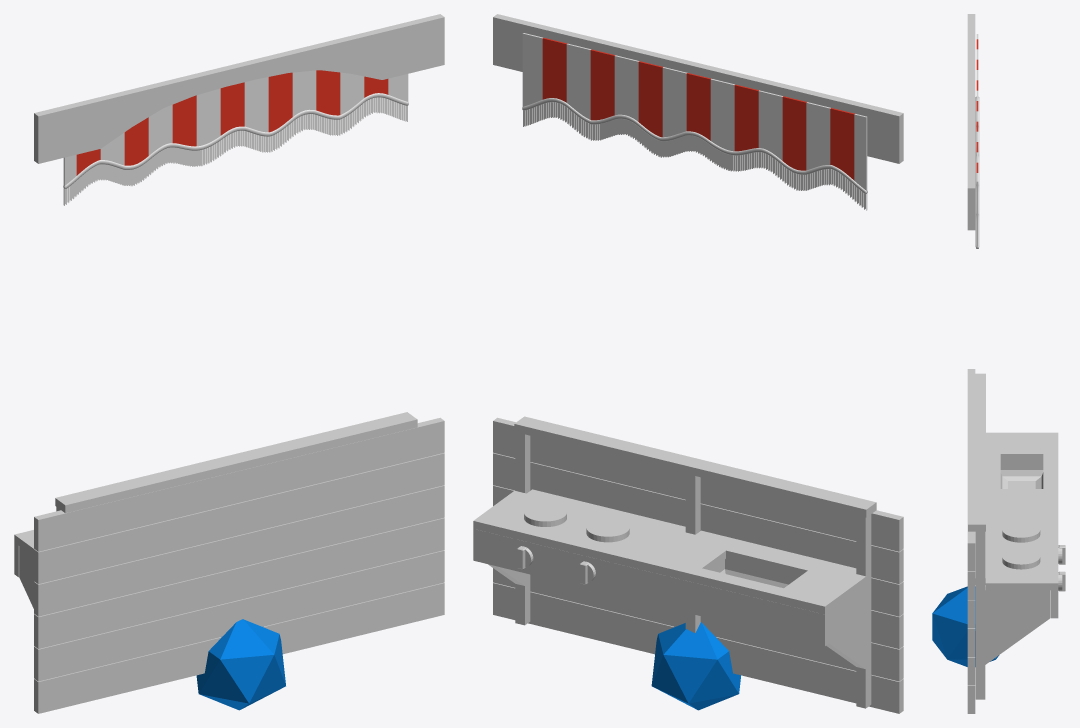
File: Kitchen.glb
3 views of the same model, side by side, from view 1: azimuth 30°, elevation 25°; view 2: azimuth 150°, elevation 25°; view 3: azimuth 270°, elevation 25° (orthographic). The views are drawn at different scales.
Parts seen in each view (by area): view 1: Cube.124, Joint.030; view 2: Cube.124, Joint.030; view 3: Cube.124, Joint.030.
Boxes of the visible parts, x1,y1,x2,y2 form: Cube.124: (14, 14, 444, 713); Joint.030: (196, 619, 285, 710); Cube.124: (473, 14, 903, 713); Joint.030: (651, 622, 740, 710); Cube.124: (967, 14, 1065, 713); Joint.030: (932, 586, 999, 666).
Bounding box in the file's own units: 1.36 × 2.06 × 0.4396.
Materials: 5 (1 with a texture image).
